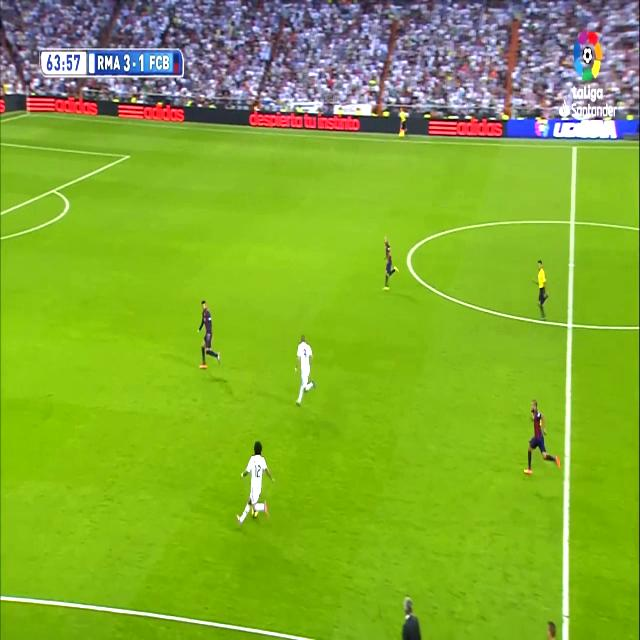bigarea_bottom_outter: (50, 182, 59, 197)
halfcircle_bottom: (562, 302, 578, 344)
halfcircle_top: (566, 206, 579, 237)
midline_top_intersection: (569, 139, 581, 157)
